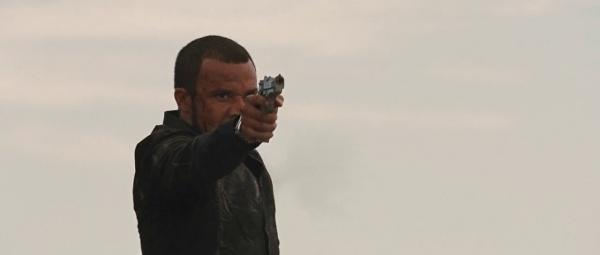Gun: (256, 73, 285, 103)
